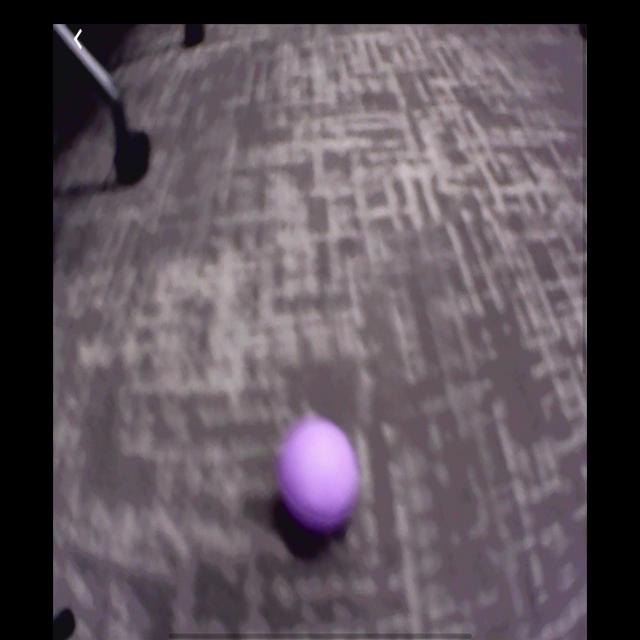ball: (275, 413, 362, 537)
